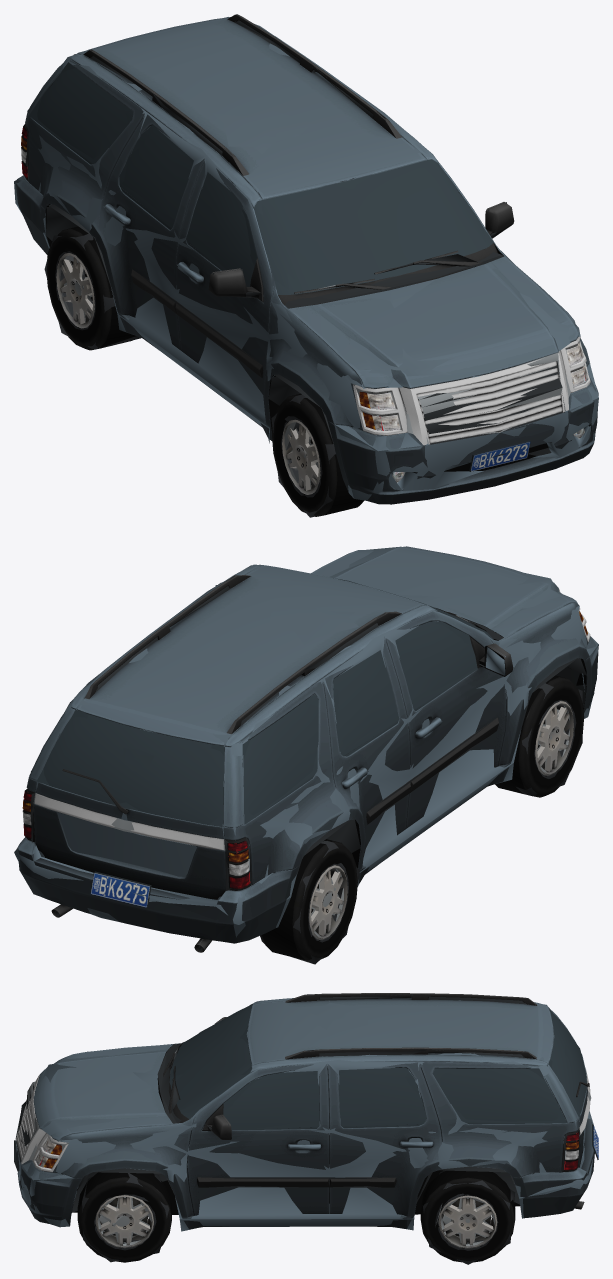
Rendered from tang.glb.
3 views of the same model, one above another, from view 1: azimuth 30°, elevation 25°; view 2: azimuth 150°, elevation 25°; view 3: azimuth 270°, elevation 25° (orthographic). The views are drawn at different scales.
Visible parts, largest first — view 1: suv coachwork, Distant suv, wheel_LF, wheel_LR, Plate front; view 2: suv coachwork, Distant suv, wheel_LR, wheel_LF, Plate rear; view 3: suv coachwork, Distant suv, wheel_RR, wheel_RF.
Boxes of the visible parts, x1,y1,x2,y2 form: suv coachwork: (16,14,598,504); Distant suv: (14,14,598,517); wheel_LF: (272,393,363,516); wheel_LR: (46,226,135,350); Plate front: (469,441,530,471); suv coachwork: (17,546,598,952); Distant suv: (14,546,598,964); wheel_LR: (260,839,357,960); wheel_LF: (495,675,584,797); Plate rear: (90,871,151,907); suv coachwork: (15,993,594,1229); Distant suv: (14,994,598,1264); wheel_RR: (420,1170,515,1262); wheel_RF: (77,1172,171,1262).
Size of the model in its own units: 2.33 by 1.95 by 5.24.
Materials: 14 (4 with a texture image).
